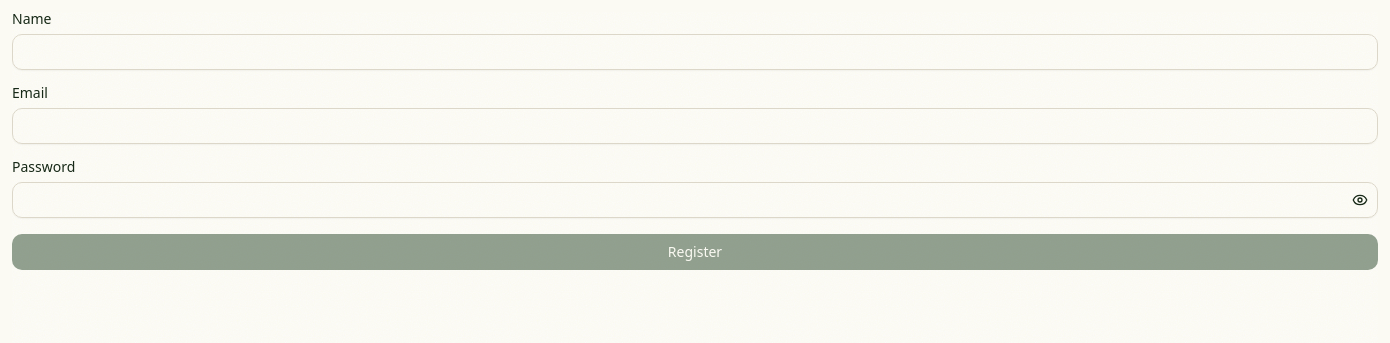
Test: RegisterForm › validates email format
In the field labelled "Name": (695, 52) [12, 34, 1378, 70], type "John Doe"
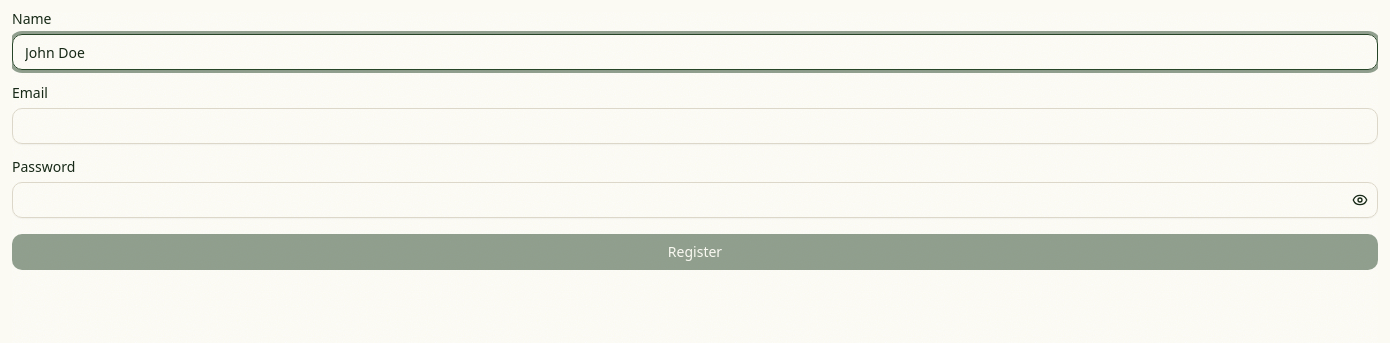
In the field labelled "Email": (695, 126) [12, 108, 1378, 144], type "invalid-email"
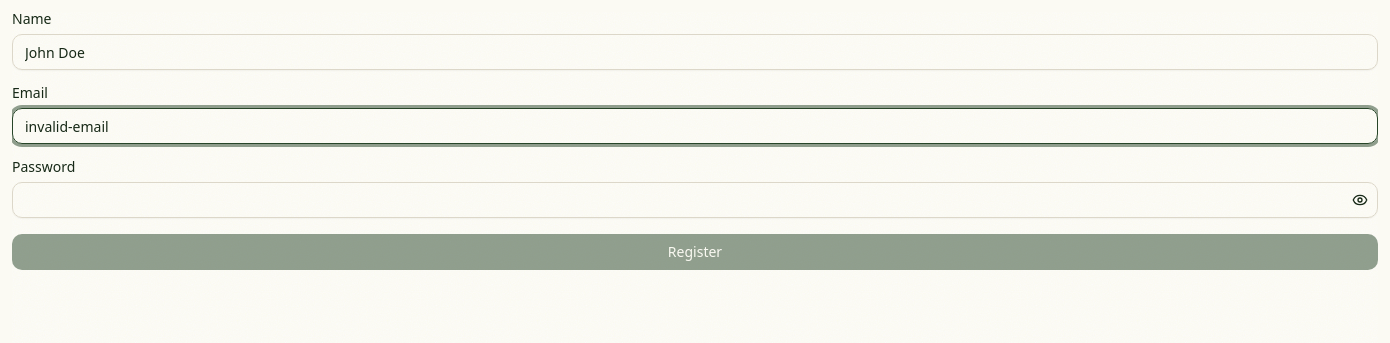
In the password field labelled "Password": (695, 200) [12, 182, 1378, 218], type "password123"
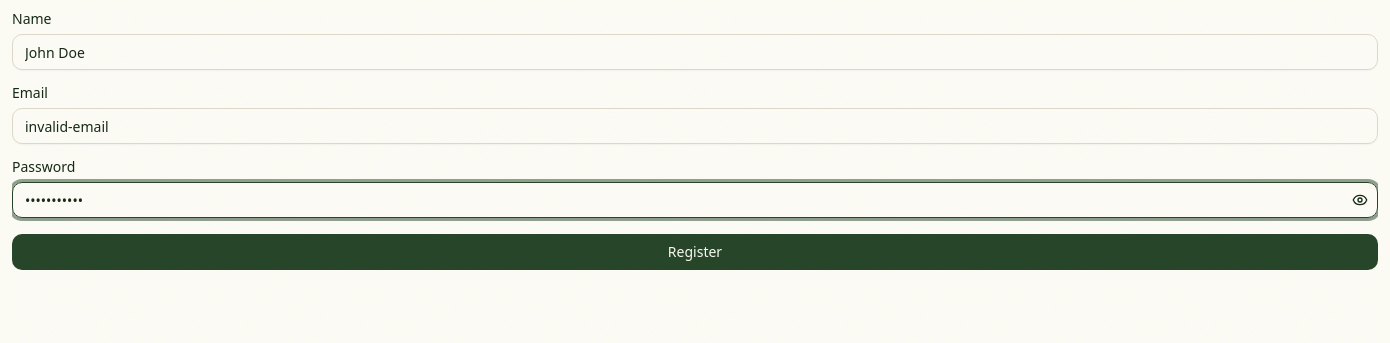
Submit the form with test id "register-form"
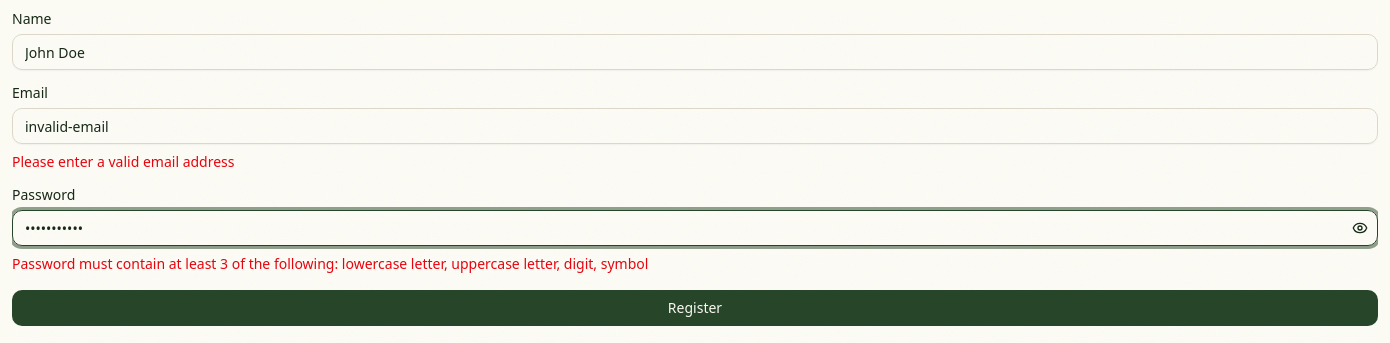
Now the text "Please enter a valid email address" is shown, box [12, 152, 234, 171]
